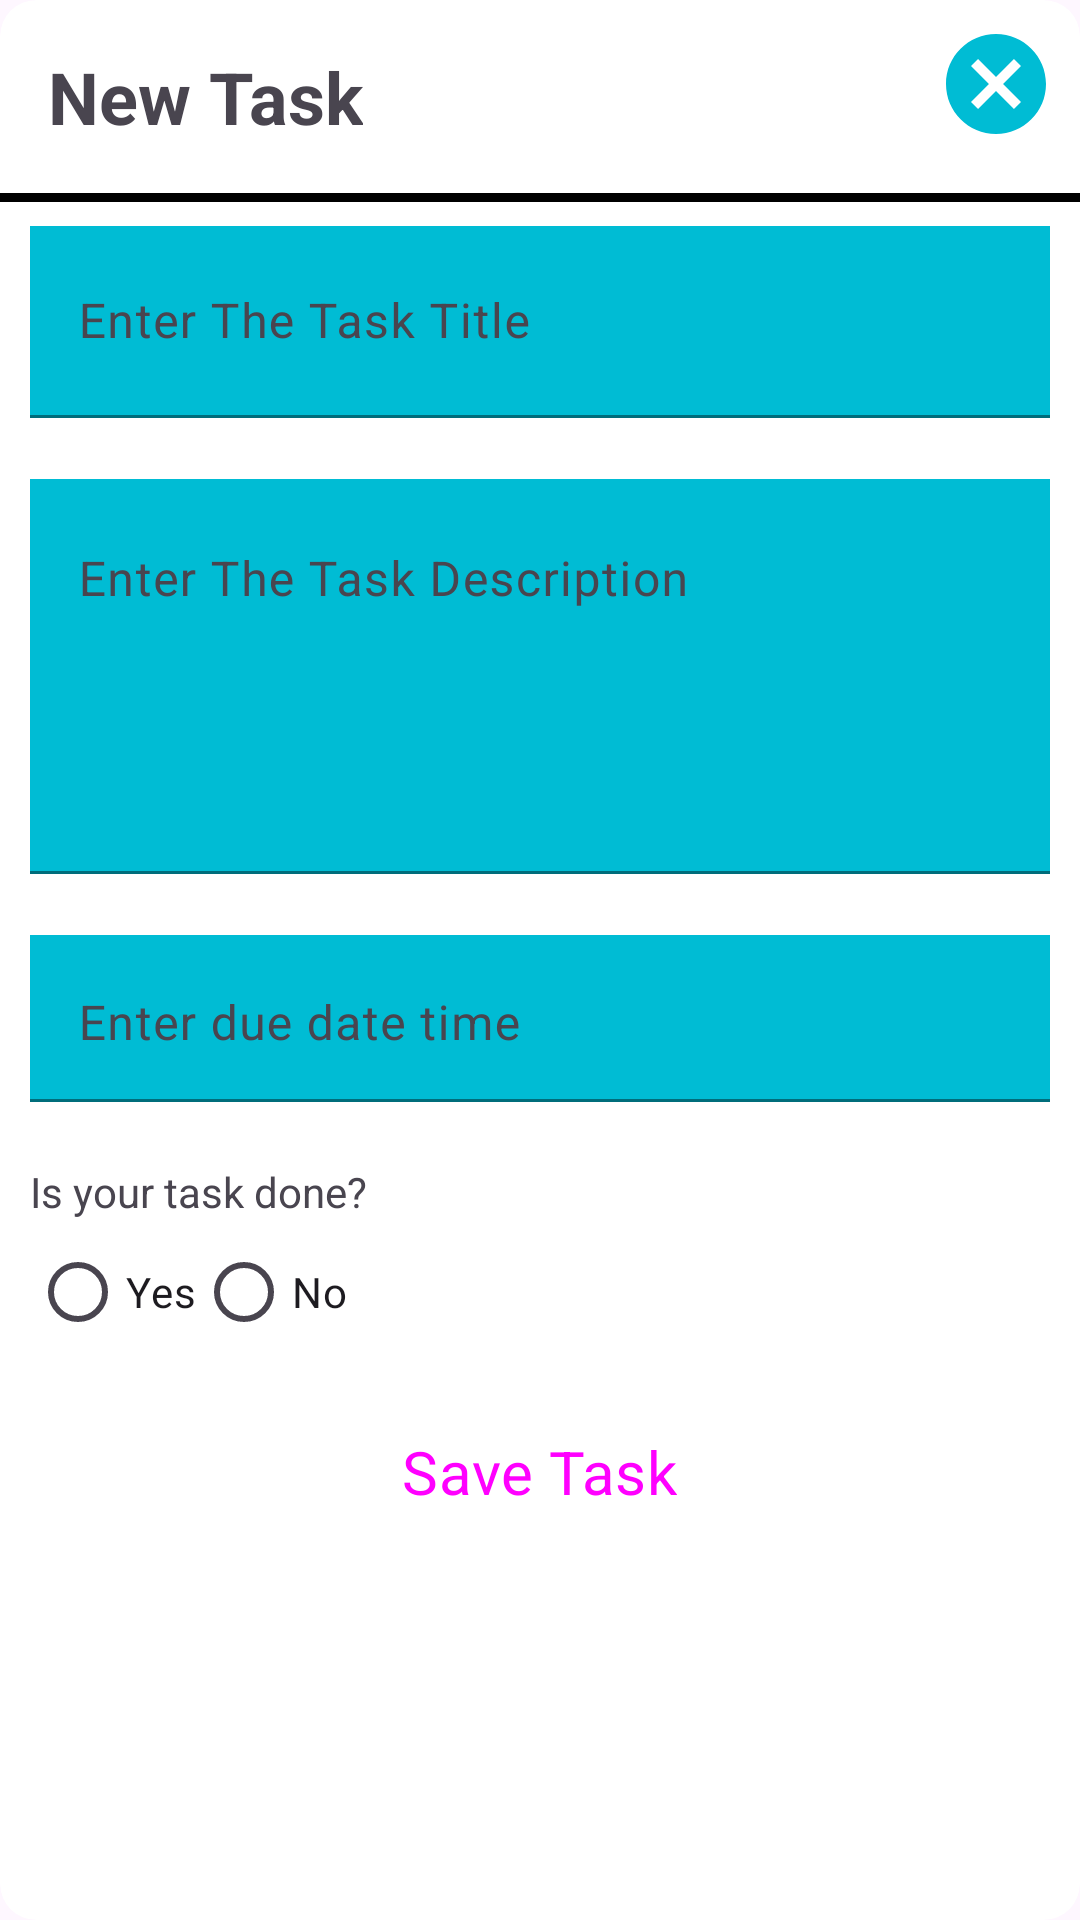

Locate icon controls on the screen. Image size 1080px x 1920px, boxes as (x1, y1, x2, y2).
close: (946, 34, 1046, 134)
